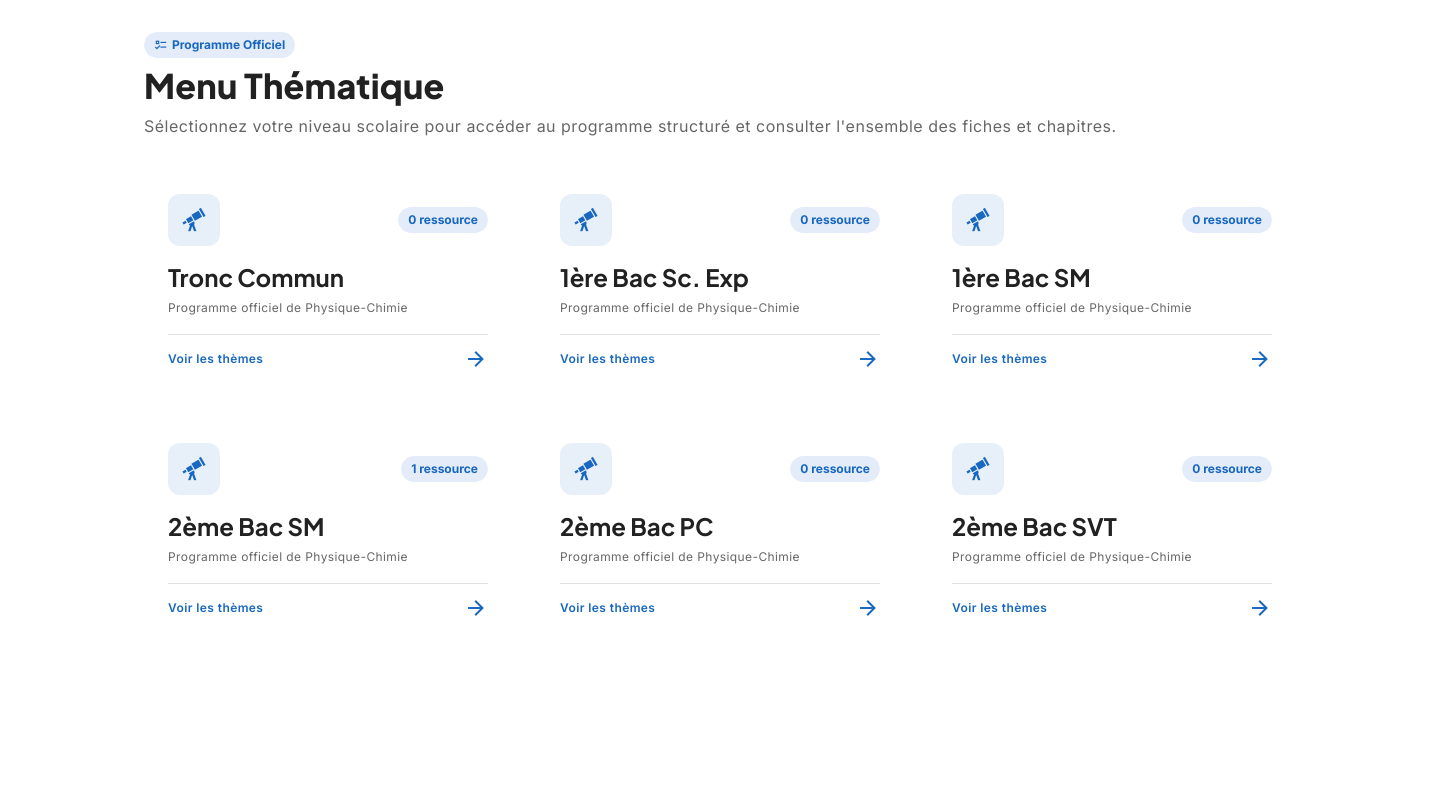
Test: MenuView › opens the full program as rows, filling cells and leaving others empty
Click the element with test id "level-card" that starts with "1 ressource": (328, 531) [144,419,512,644]
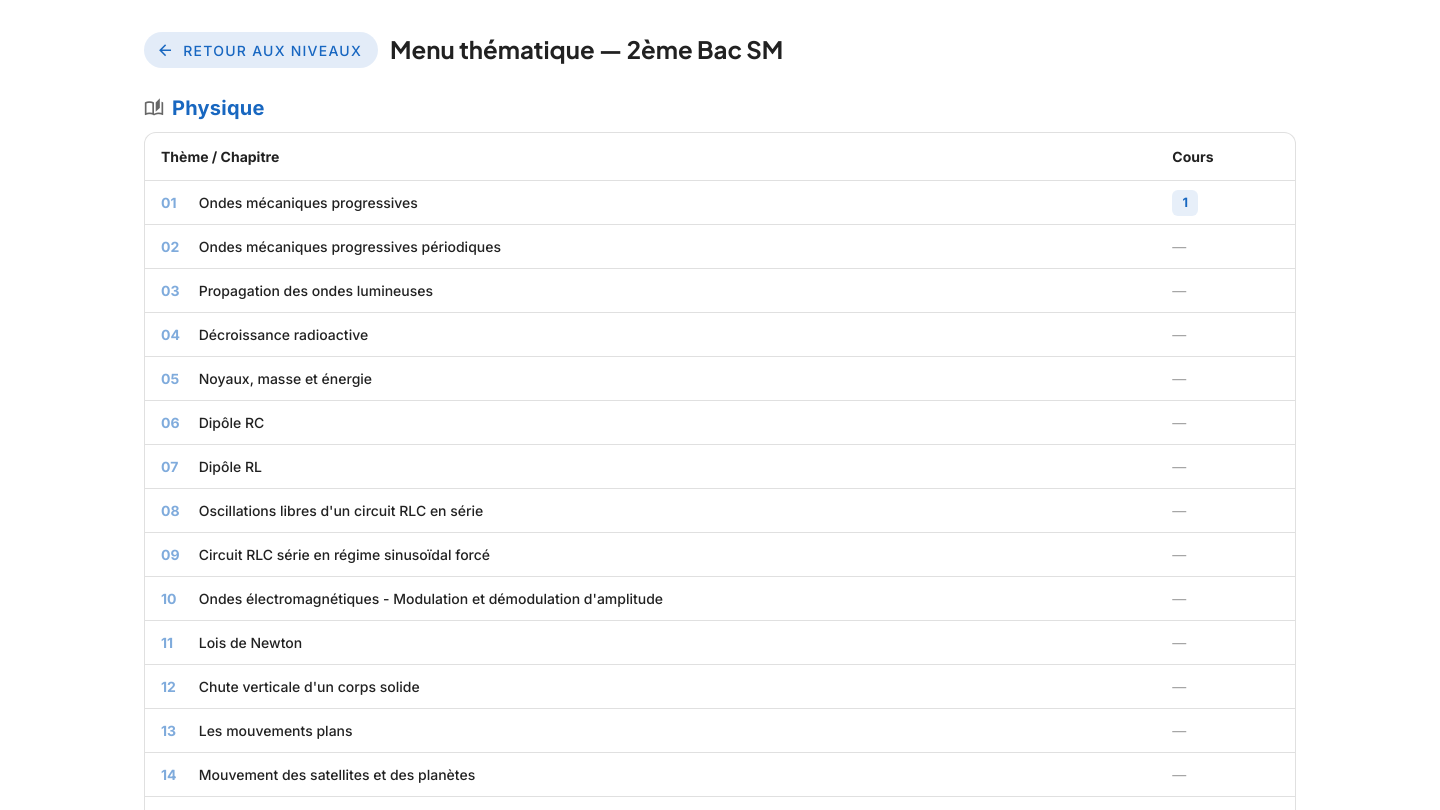
Expected: the text "Menu thématique — 2ème Bac SM" is shown, [390,34,783,66]
Expected: the text "Ondes mécaniques progressives" is shown, [195,194,418,211]
Expected: the text "Ondes électromagnétiques - Modulation et démodulation d'amplitude" is shown, [195,590,663,607]
